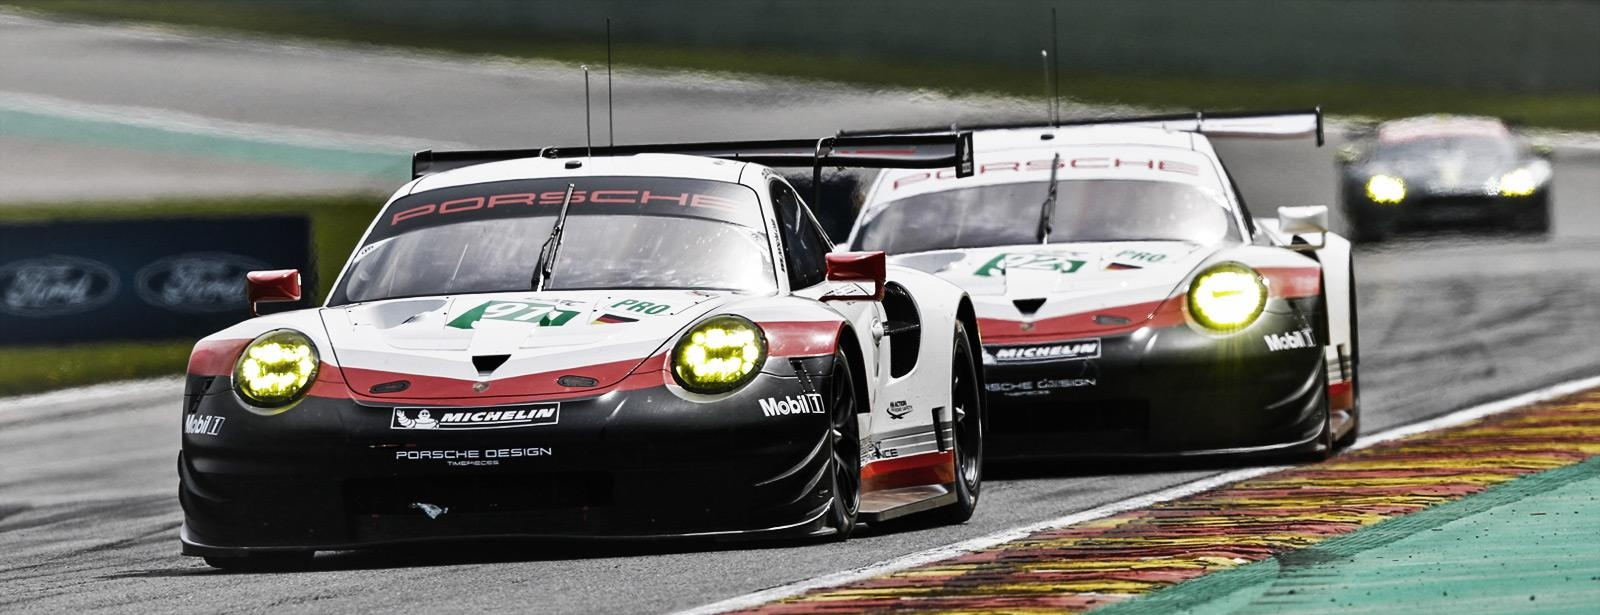racing car: (157, 113, 991, 552)
